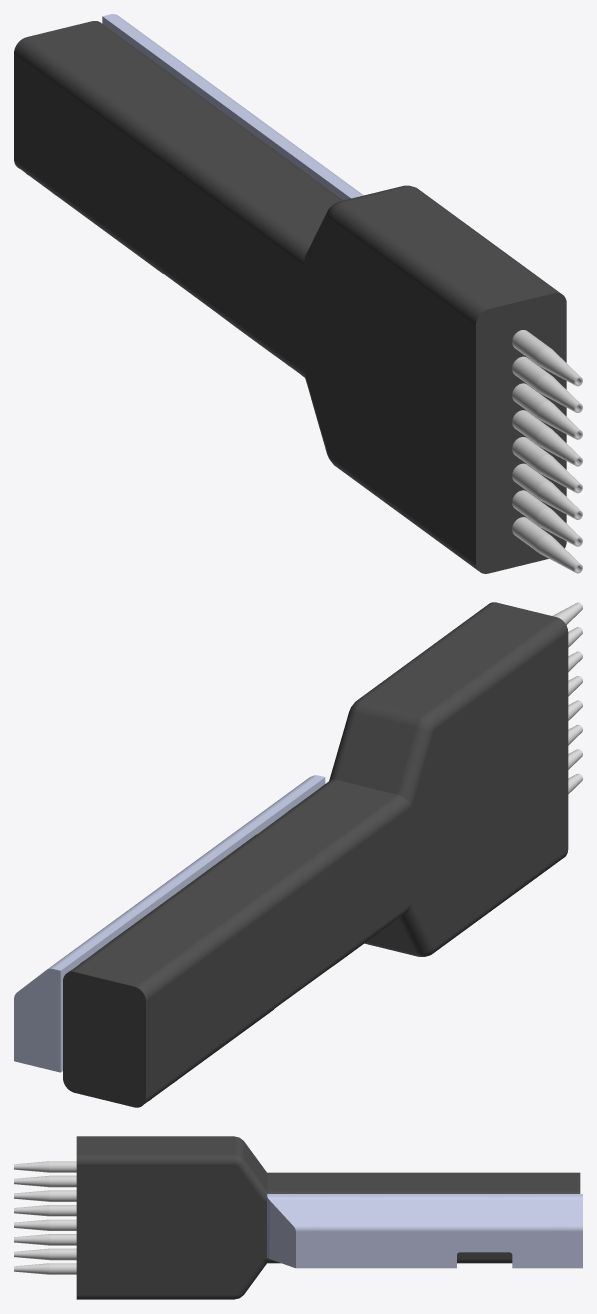
3 renders of one model, top to bottom at view 1: azimuth 30°, elevation 25°; view 2: azimuth 150°, elevation 25°; view 3: azimuth 270°, elevation 25°, orthographic. The views are drawn at different scales.
Parts seen in each view (by area): view 1: LH pipette - with tips.IGS (×2); view 2: LH pipette - with tips.IGS (×2); view 3: LH pipette - with tips.IGS (×2).
Boxes of the visible parts, left/top/right/bottom form: LH pipette - with tips.IGS (×2): left=14, top=14, right=582, bottom=573; LH pipette - with tips.IGS (×2): left=14, top=602, right=582, bottom=1107; LH pipette - with tips.IGS (×2): left=14, top=1136, right=582, bottom=1299.
Size of the model in its own units: 0.05 by 0.089 by 0.3183.
